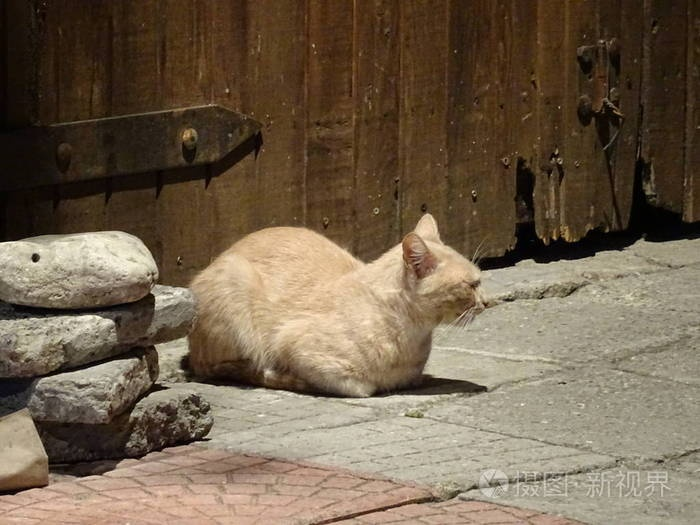cat: (182, 212, 489, 392)
